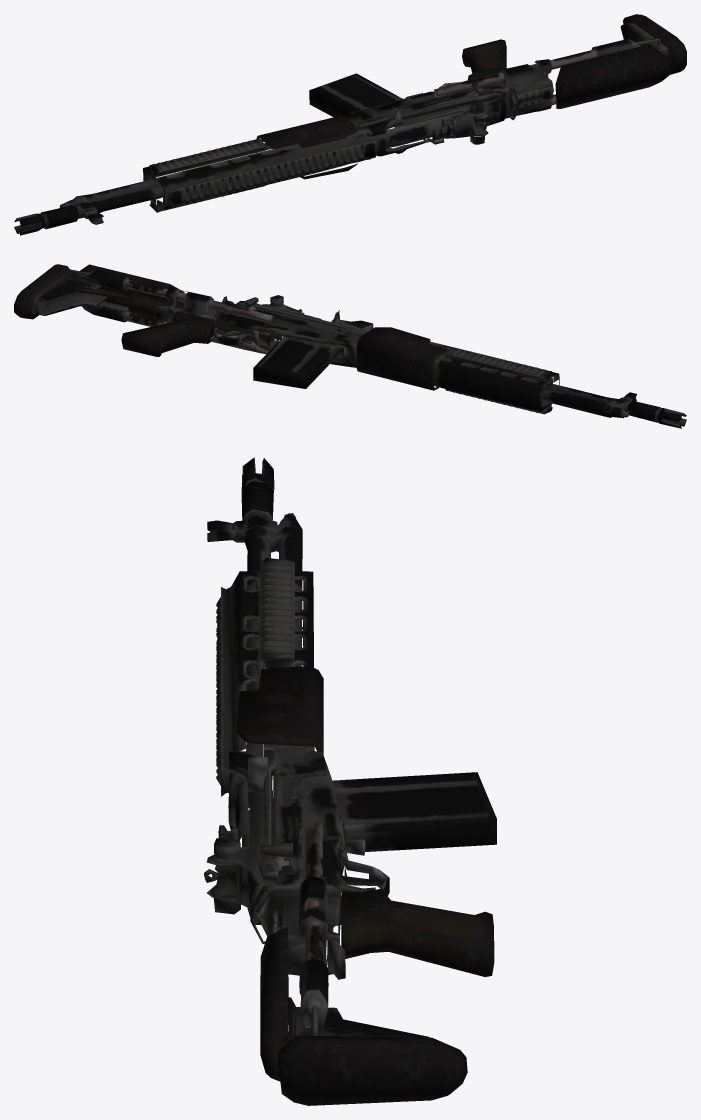
The model's file is m39.worldmodel.glb.
3 renders of one model, top to bottom at view 1: azimuth 30°, elevation 25°; view 2: azimuth 150°, elevation 25°; view 3: azimuth 270°, elevation 25°, orthographic. The views are drawn at different scales.
Parts seen in each view (by area): view 1: M39EMR_LOD0; view 2: M39EMR_LOD0; view 3: M39EMR_LOD0.
Part boxes in pixels (box(x1,y1,x2,y2)): M39EMR_LOD0: box(14, 14, 686, 235); M39EMR_LOD0: box(14, 264, 686, 428); M39EMR_LOD0: box(204, 457, 496, 1105).
Size of the model in its own units: 1.01 by 0.0757 by 0.2052.
Materials: 1 (1 with a texture image).
